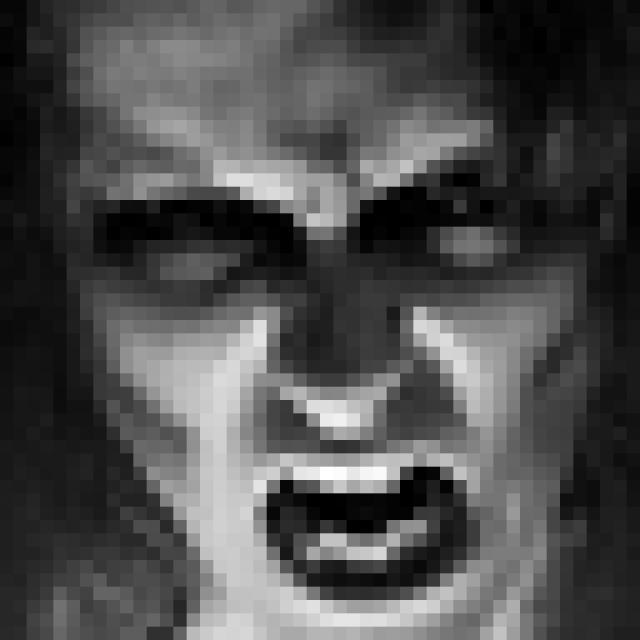angry: (89, 131, 562, 624)
